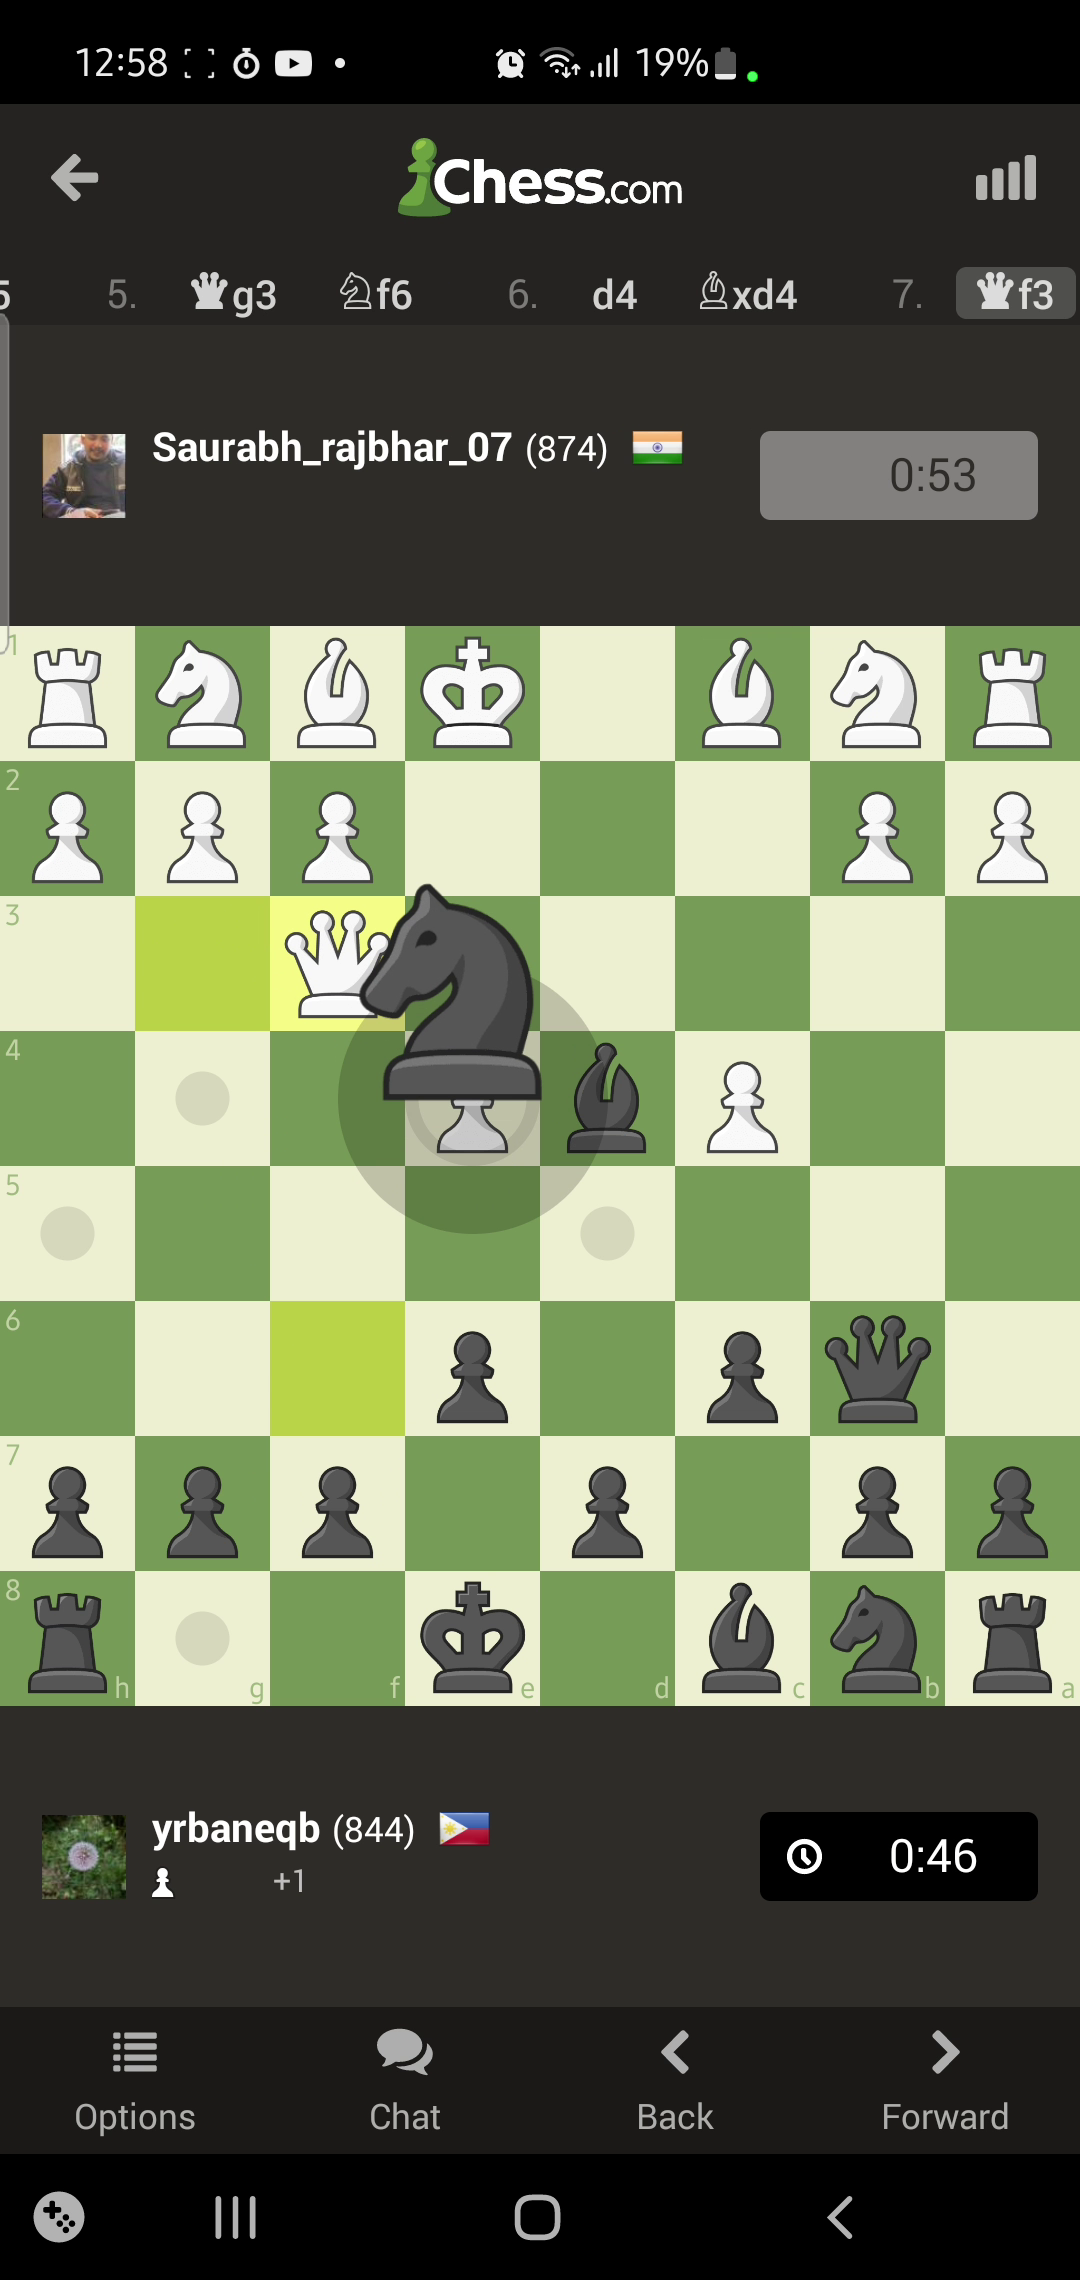king: (424, 635, 523, 747), (420, 1585, 520, 1694)
